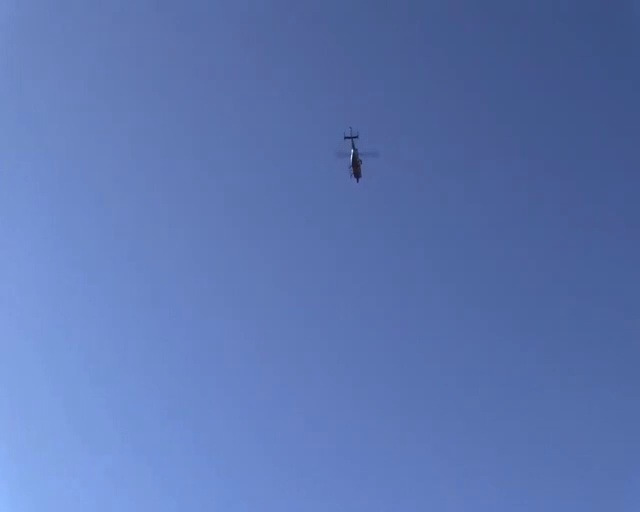HELICOPTER: (335, 124, 380, 183)
